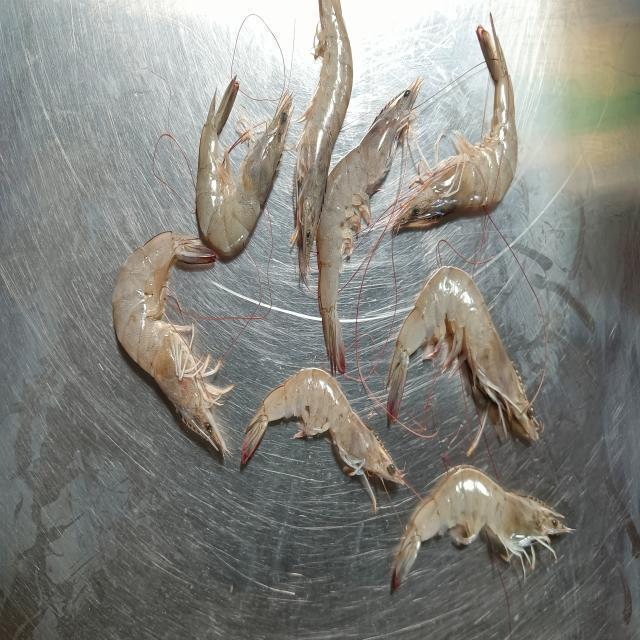shrimp: (316, 77, 421, 372), (388, 268, 540, 456), (392, 15, 518, 232), (112, 232, 232, 452), (241, 367, 404, 514), (394, 467, 570, 587), (196, 77, 292, 257), (291, 0, 352, 279), (132, 261, 134, 266)
